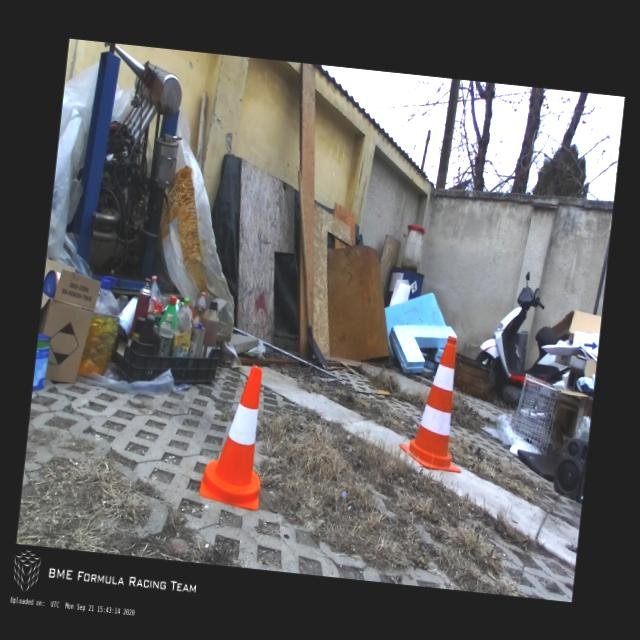large_orange_cone: (396, 331, 474, 472)
orange_cone: (198, 362, 273, 510)
